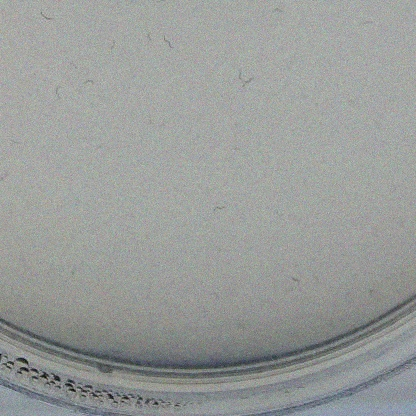worm: (145, 112, 176, 134), (234, 68, 258, 93), (34, 3, 57, 27), (266, 7, 301, 21), (2, 136, 30, 151), (51, 85, 71, 105), (160, 34, 179, 55), (141, 30, 160, 50), (287, 274, 306, 293), (209, 204, 232, 218), (99, 36, 120, 51), (154, 0, 176, 13), (360, 18, 379, 33), (0, 171, 15, 188), (82, 78, 101, 91)
